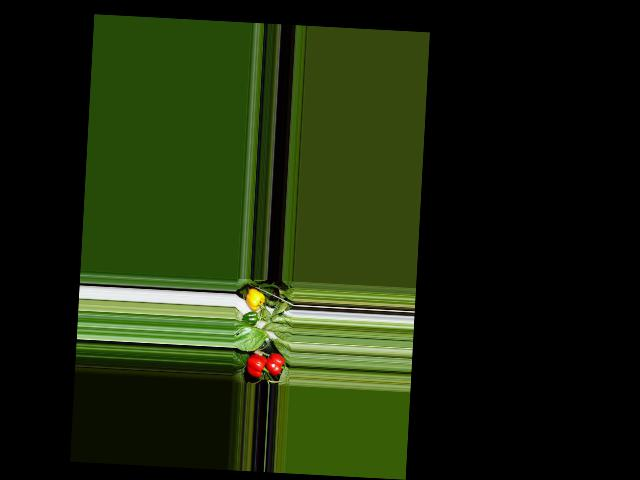bell_pepper: (243, 286, 266, 311)
